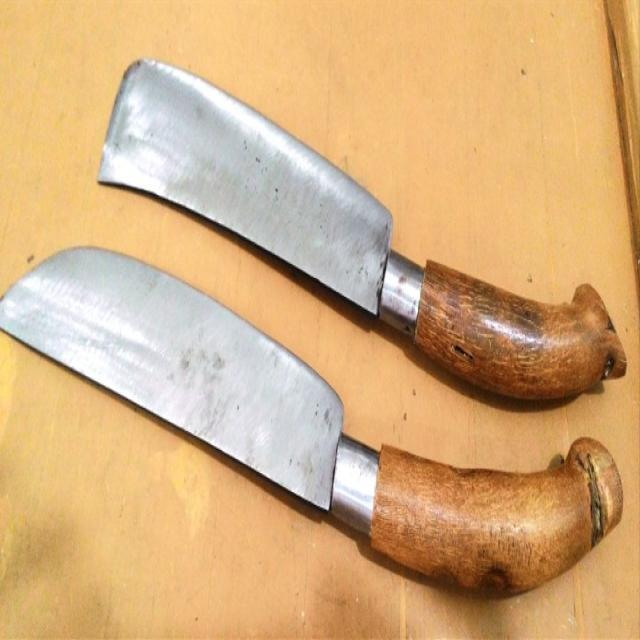Pisau: (0, 198, 629, 590)
